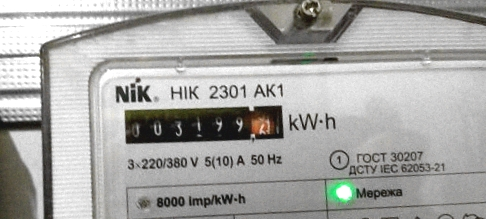0: (127, 118, 142, 138), (150, 116, 163, 136)
1: (192, 111, 203, 131)
3: (171, 117, 183, 137)
6: (255, 120, 267, 137)
9: (232, 114, 245, 133), (212, 113, 223, 132)
screen: (114, 83, 294, 166)
